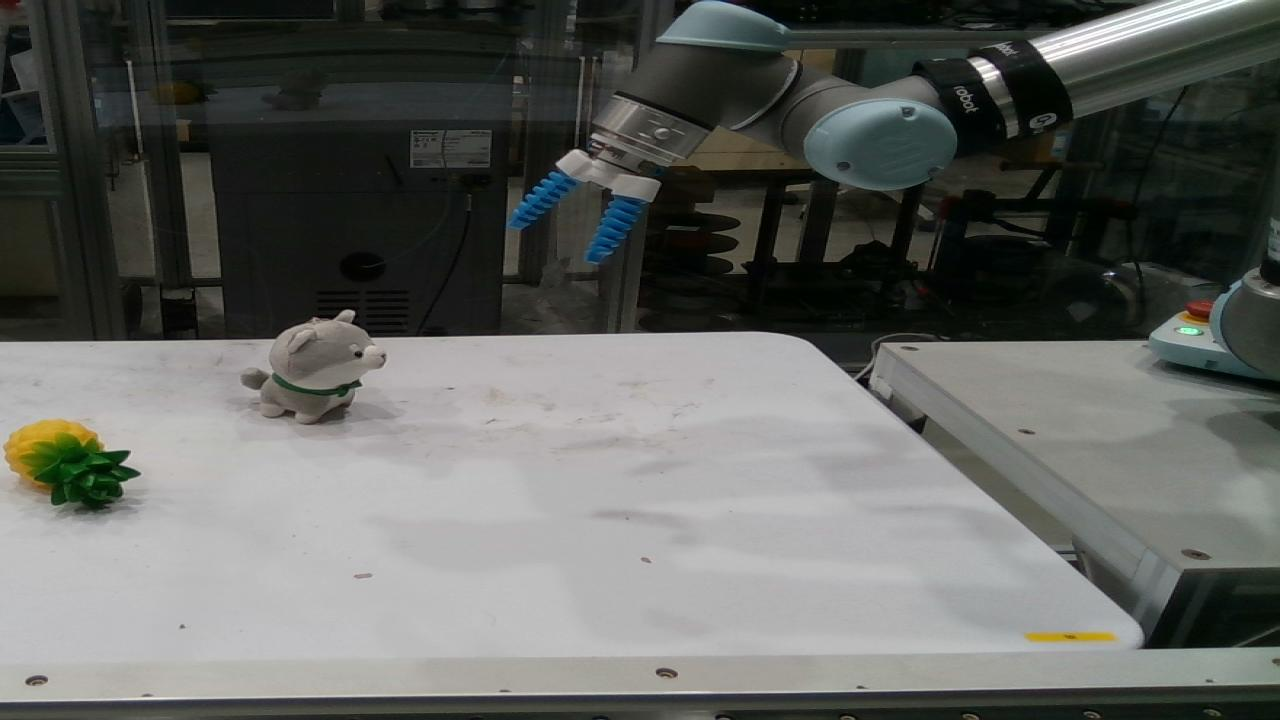UR5: (556, 3, 1272, 198), (1210, 218, 1278, 378)
gripper_left: (508, 171, 580, 229)
gripper_right: (590, 197, 642, 263)
target: (256, 312, 384, 422), (6, 420, 136, 507)
